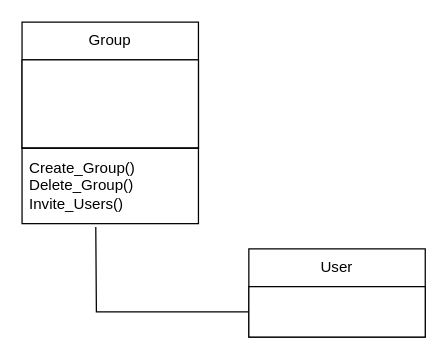
This 447x359 diagram has some shape labels left out. The centre of each missing label's shape, as x and y in pixels:
"-name: string -admin: boolean" goes at pixel 336 311.
"-name: string -admin: string -members: list -invited users: list" goes at pixel 109 103.
